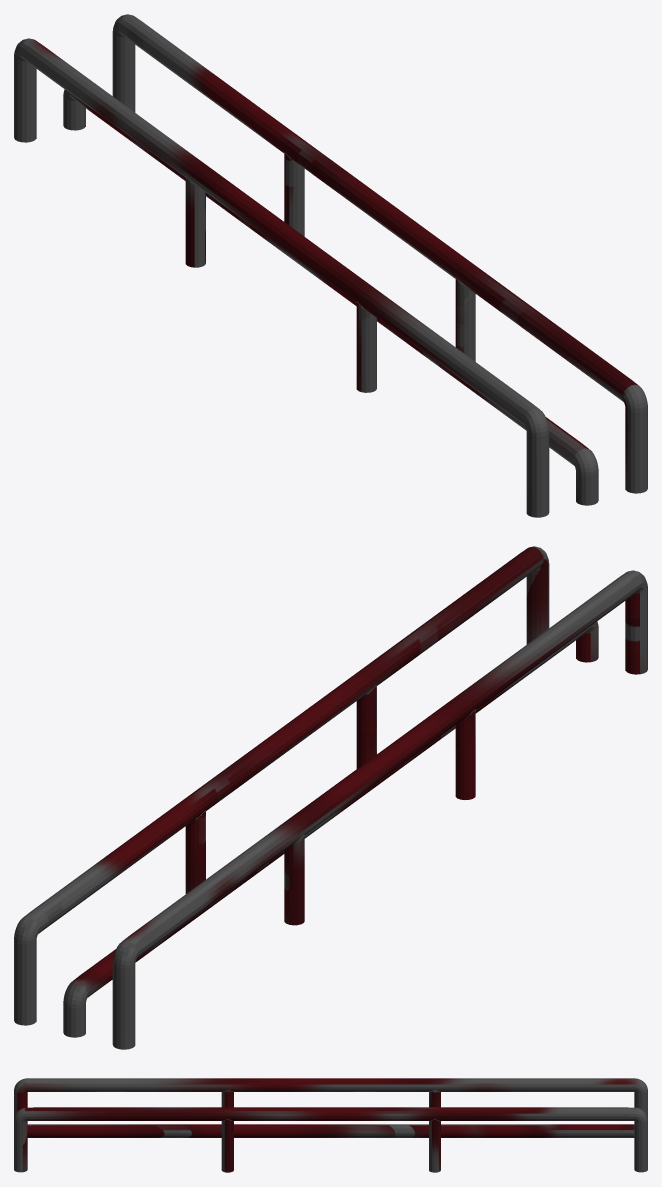
Rendered from Rack.fbx.
3 renders of one model, top to bottom at view 1: azimuth 30°, elevation 25°; view 2: azimuth 150°, elevation 25°; view 3: azimuth 270°, elevation 25°, orthographic. The views are drawn at different scales.
Visible parts, largest first — view 1: Rack; view 2: Rack; view 3: Rack.
Part boxes in pixels (x1=…): Rack: x1=14, y1=14, x2=647, y2=517; Rack: x1=14, y1=546, x2=647, y2=1049; Rack: x1=14, y1=1078, x2=647, y2=1172.
Bounding box in the file's own units: 190 × 157 × 1456.
Materials: 1 (1 with a texture image).
